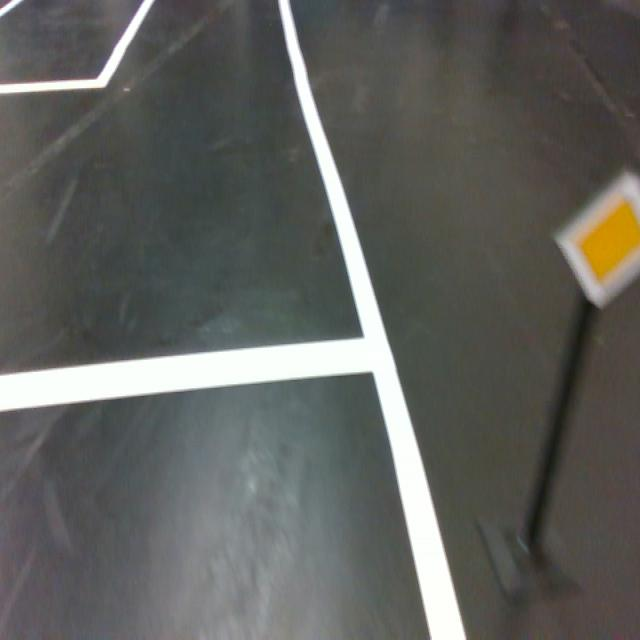priority-sign: (551, 164, 640, 311)
